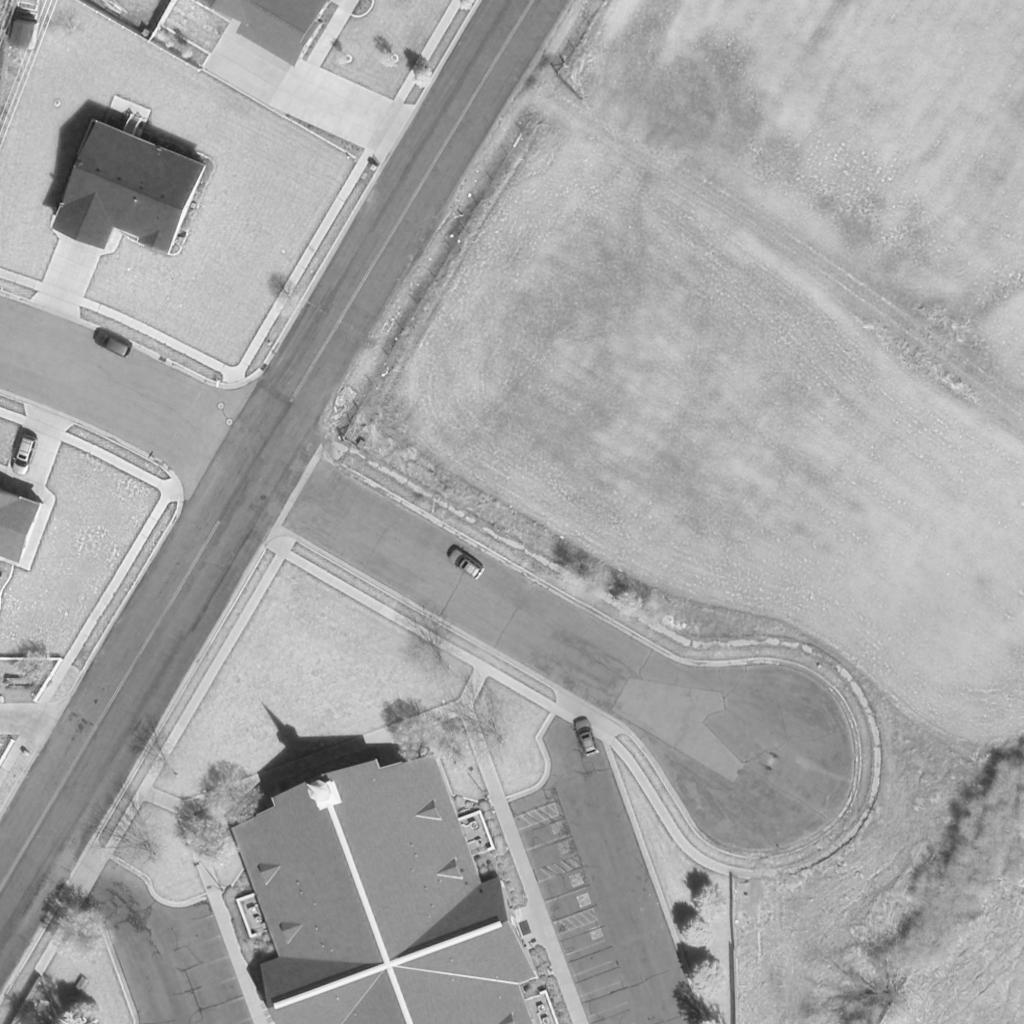vehicle: (446, 547, 488, 581), (11, 434, 39, 478), (94, 330, 132, 358), (573, 717, 599, 757)
